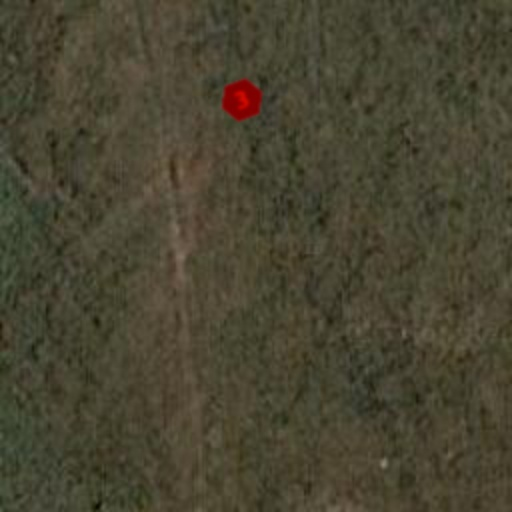hexagon: (212, 70, 272, 130)
